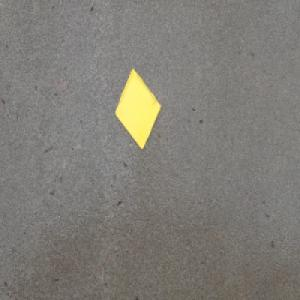PlasticPart: (115, 66, 162, 150)
